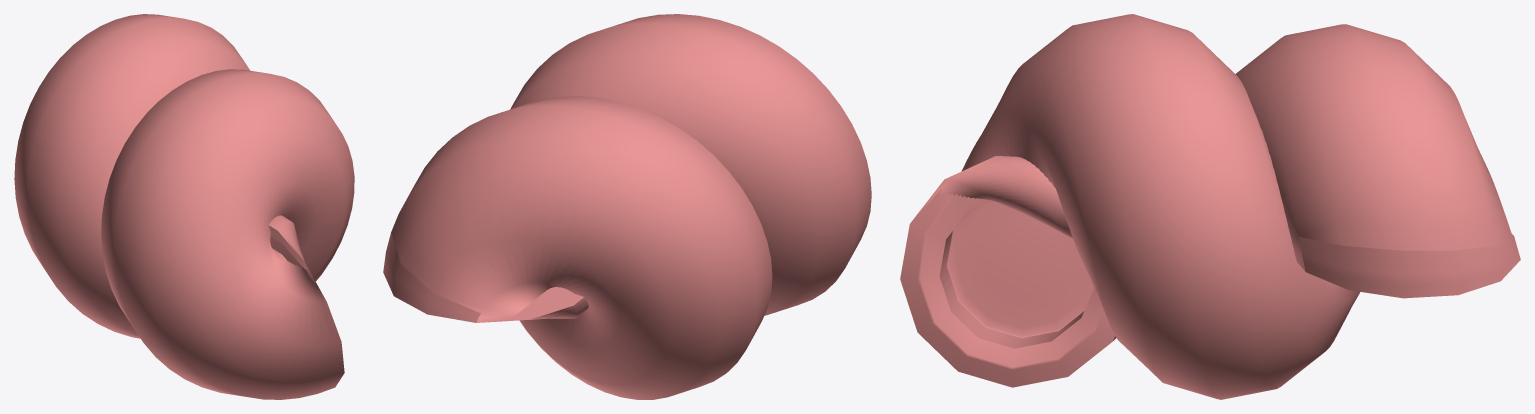
Rendered from coquillage.fbx.
The picture shows the model from 3 angles, left to right: view 1: azimuth 30°, elevation 25°; view 2: azimuth 150°, elevation 25°; view 3: azimuth 270°, elevation 25°; orthographic projection. The views are drawn at different scales.
Parts seen in each view (by area): view 1: pHelix1; view 2: pHelix1; view 3: pHelix1.
Boxes of the visible parts, x1,y1,x2,y2 form: pHelix1: (14,14,354,399); pHelix1: (383,14,871,399); pHelix1: (900,14,1520,399).
Bounding box in the file's own units: 2 × 2.03 × 3.25.
